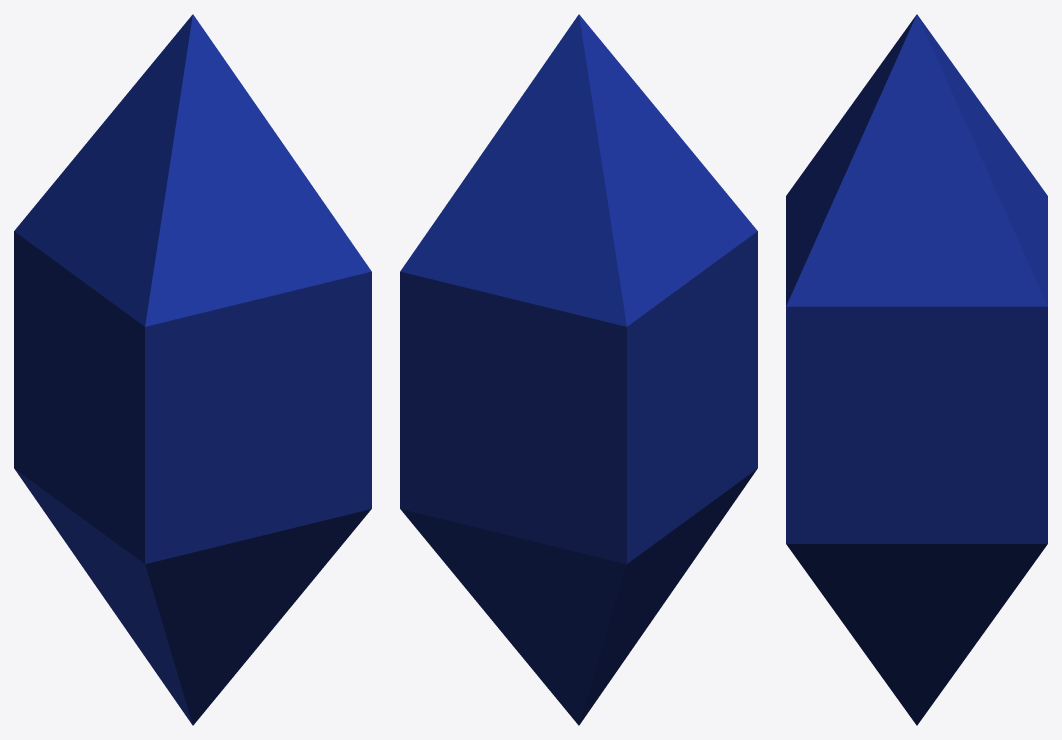
Rendered from occulus_eye_iris.obj.
The picture shows the model from 3 angles, left to right: view 1: azimuth 30°, elevation 25°; view 2: azimuth 150°, elevation 25°; view 3: azimuth 270°, elevation 25°; orthographic projection.
Parts seen in each view (by area): view 1: IRIS; view 2: IRIS; view 3: IRIS.
Boxes of the visible parts, x1,y1,x2,y2 form: IRIS: (14,14,371,725); IRIS: (400,14,757,725); IRIS: (786,14,1047,725).
Bounding box in the file's own units: 0.0625 × 0.1875 × 0.0625.
